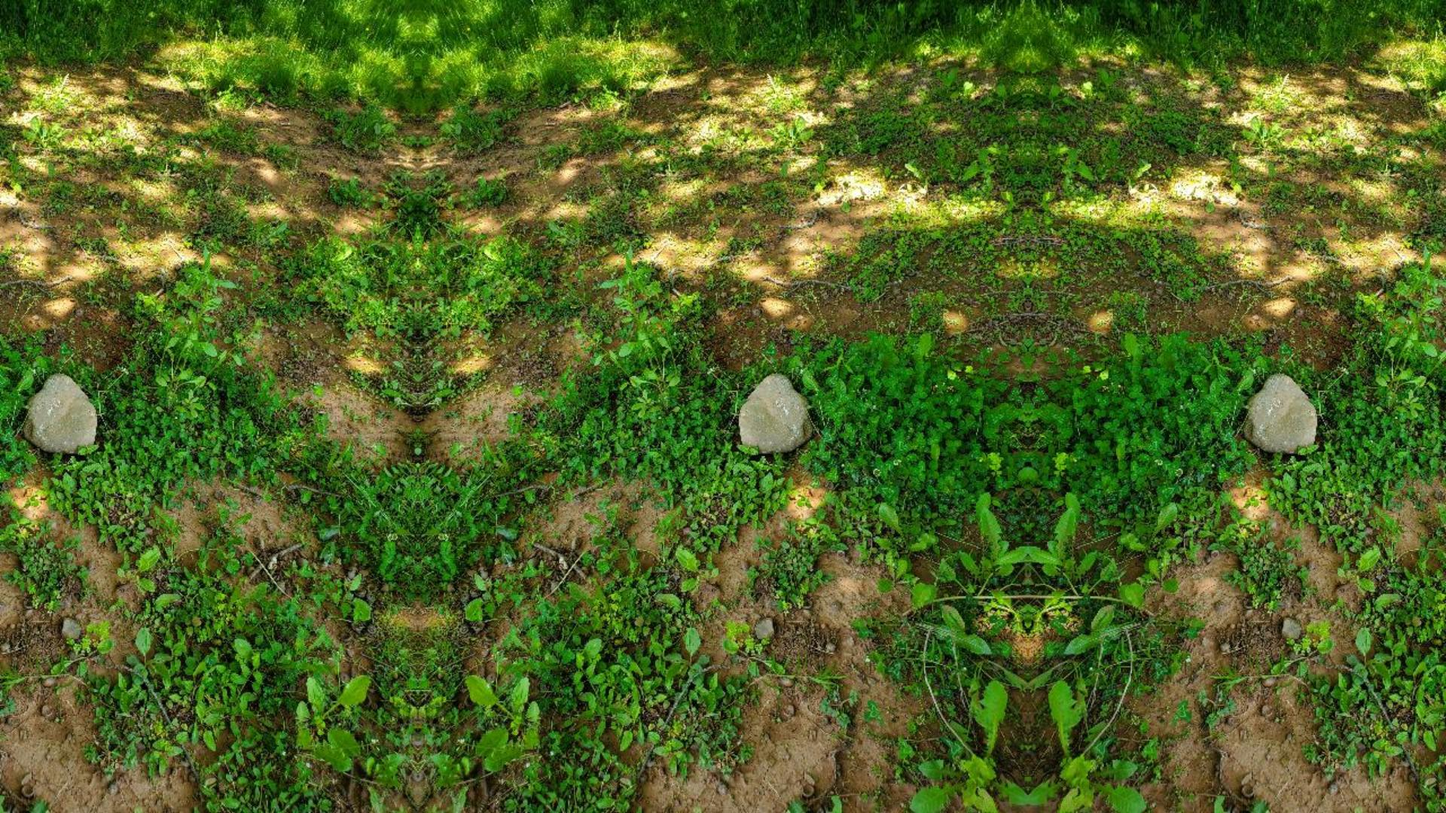rock: (739, 374, 812, 453), (23, 374, 96, 453), (1243, 374, 1316, 453)
